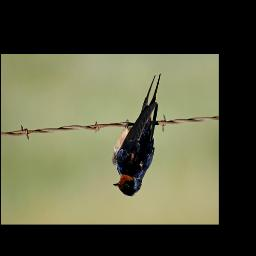Swallow: (112, 73, 164, 198)
